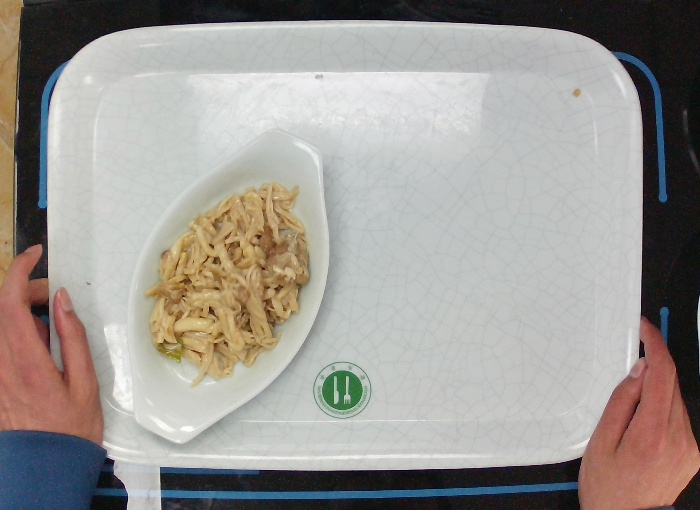JYsf-Yu_Pan: (121, 127, 337, 443)
